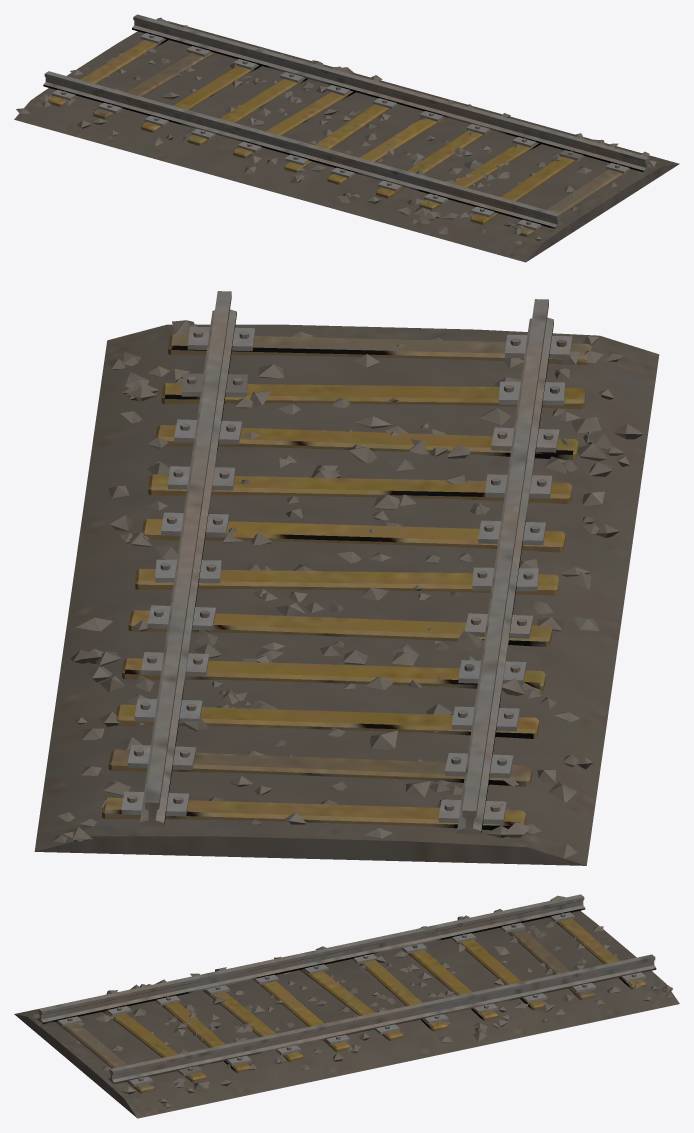
File: half-diagonal-rail.glb
3 views of the same model, one above another, from view 1: azimuth 30°, elevation 25°; view 2: azimuth 150°, elevation 25°; view 3: azimuth 270°, elevation 25° (orthographic). The views are drawn at different scales.
Parts seen in each view (by area): view 1: body; view 2: body; view 3: body.
Part boxes in pixels (box(x1,y1,x2,y2)): body: box(14, 14, 679, 262); body: box(34, 291, 659, 865); body: box(14, 894, 679, 1118).
Bounding box in the file's own units: 3.82 × 0.2152 × 4.91.
Materials: 1 (1 with a texture image).
